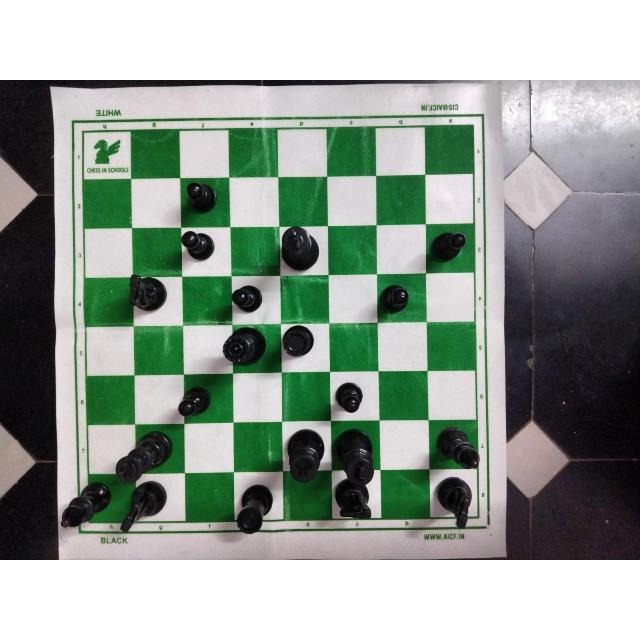black-bishop: (58, 481, 114, 533), (432, 422, 486, 474)
black-king: (113, 429, 175, 486), (284, 427, 326, 485), (335, 428, 377, 485), (275, 224, 320, 272)
black-knight: (119, 480, 169, 530), (432, 473, 476, 529), (123, 270, 172, 314), (333, 478, 374, 519)
black-pawn: (427, 224, 469, 268), (174, 380, 212, 421), (331, 379, 367, 421), (182, 177, 222, 213), (180, 227, 220, 263), (374, 282, 413, 318), (227, 281, 266, 313)
black-queen: (214, 324, 270, 368)
black-rook: (234, 481, 273, 537), (278, 323, 322, 361)
